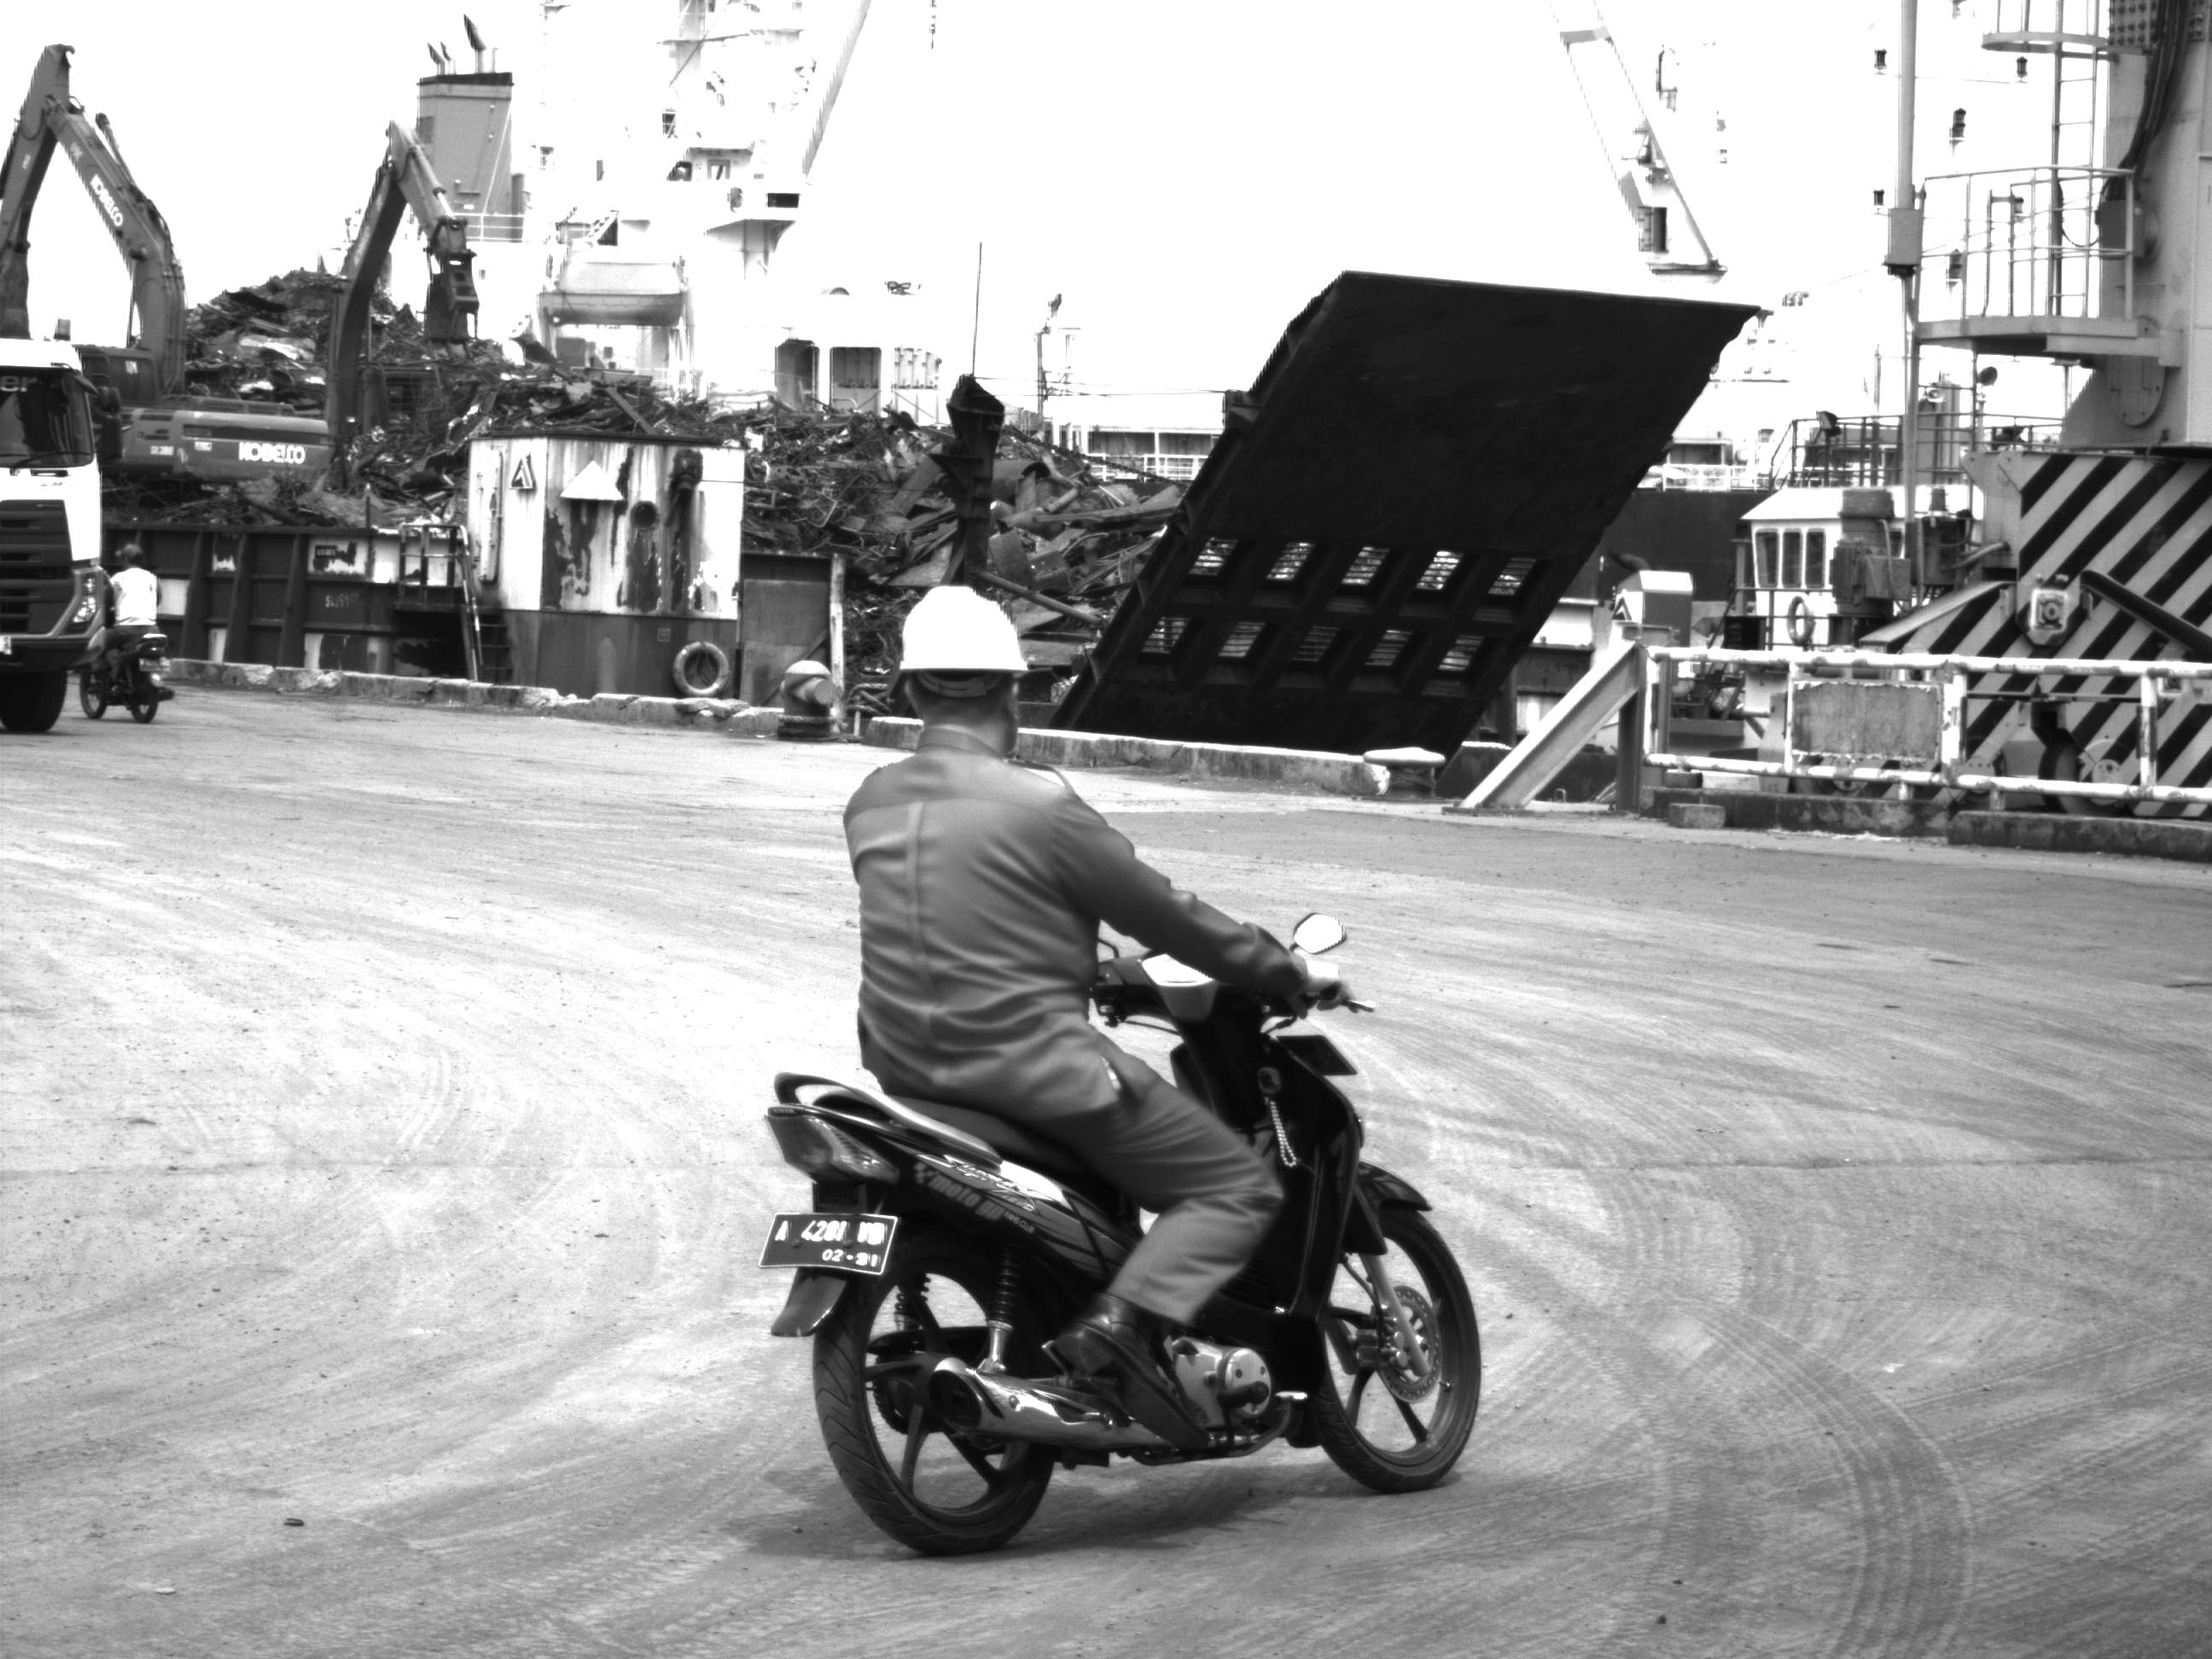day_motorcycle_rear: (743, 1065, 1442, 1552)
plate: (760, 1206, 893, 1278)
